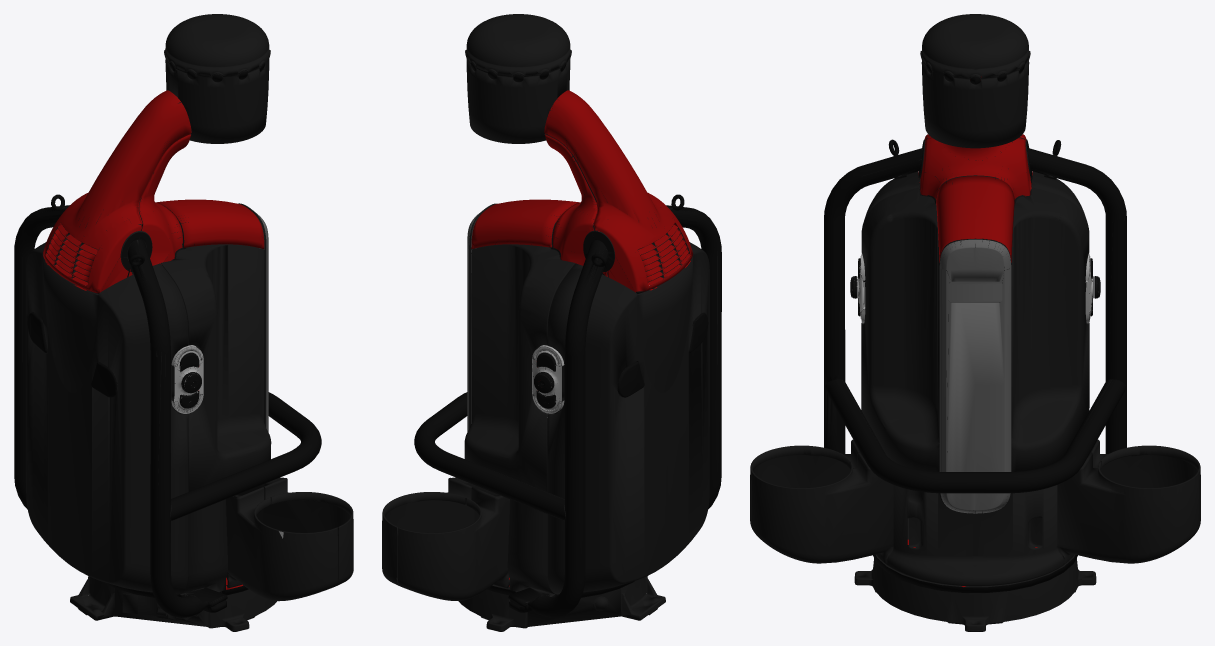
3 views of the same model, side by side, from view 1: azimuth 30°, elevation 25°; view 2: azimuth 150°, elevation 25°; view 3: azimuth 270°, elevation 25° (orthographic). The views are drawn at different scales.
Parts seen in each view (by area): view 1: base_link; view 2: base_link; view 3: base_link.
Boxes of the visible parts, <box> form: base_link: <box>14,14,353,631</box>; base_link: <box>382,14,721,631</box>; base_link: <box>750,14,1200,631</box>.
Size of the model in its own units: 0.419 by 0.672 by 0.9368.
